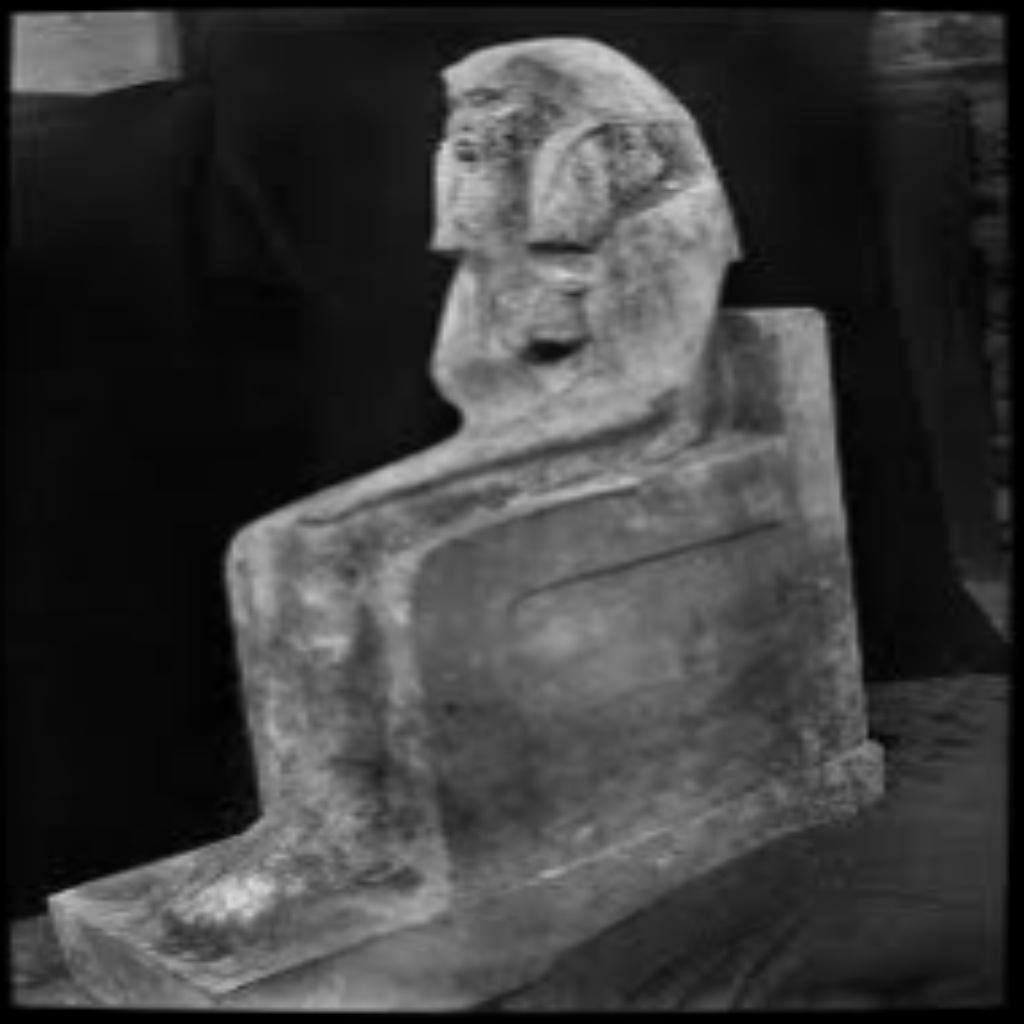Statue of King Zoser: (6, 31, 894, 1005)
